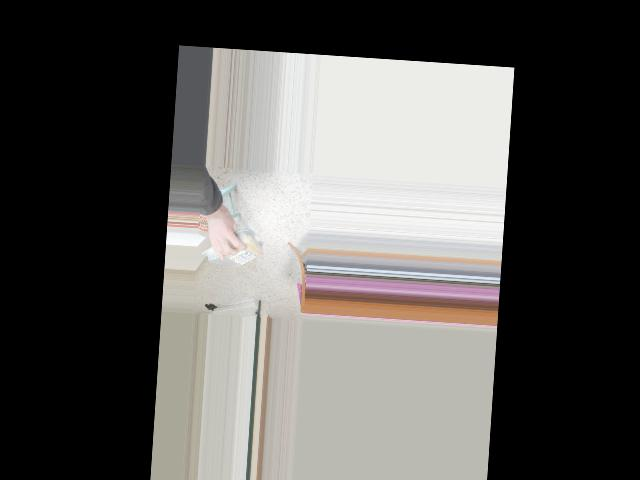cheese: (205, 234, 269, 267)
